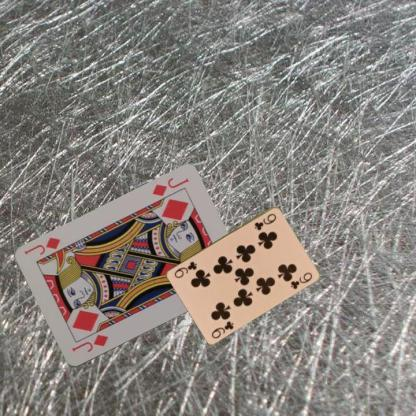9c: (209, 318, 235, 340), (252, 210, 277, 232)
Jd: (150, 175, 190, 198), (69, 332, 110, 354)
